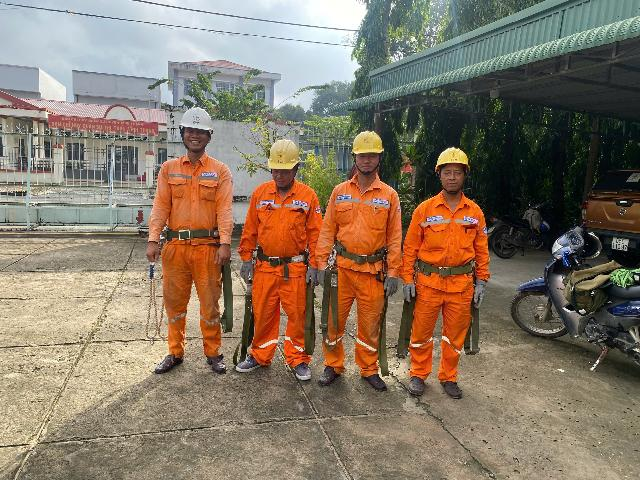gloves: (234, 254, 259, 287), (380, 274, 404, 299), (473, 277, 490, 312), (315, 259, 331, 295), (402, 276, 419, 308), (303, 262, 317, 292)
harness: (332, 236, 391, 267), (409, 255, 480, 279), (251, 242, 315, 268), (163, 226, 229, 243)
helmet: (415, 141, 481, 176), (252, 136, 317, 170), (164, 104, 227, 135), (346, 128, 389, 161)
shoes: (357, 363, 393, 399), (438, 371, 472, 406), (234, 350, 273, 376), (199, 347, 231, 378), (287, 351, 315, 386), (317, 361, 348, 391), (153, 348, 185, 377), (404, 369, 432, 399)
